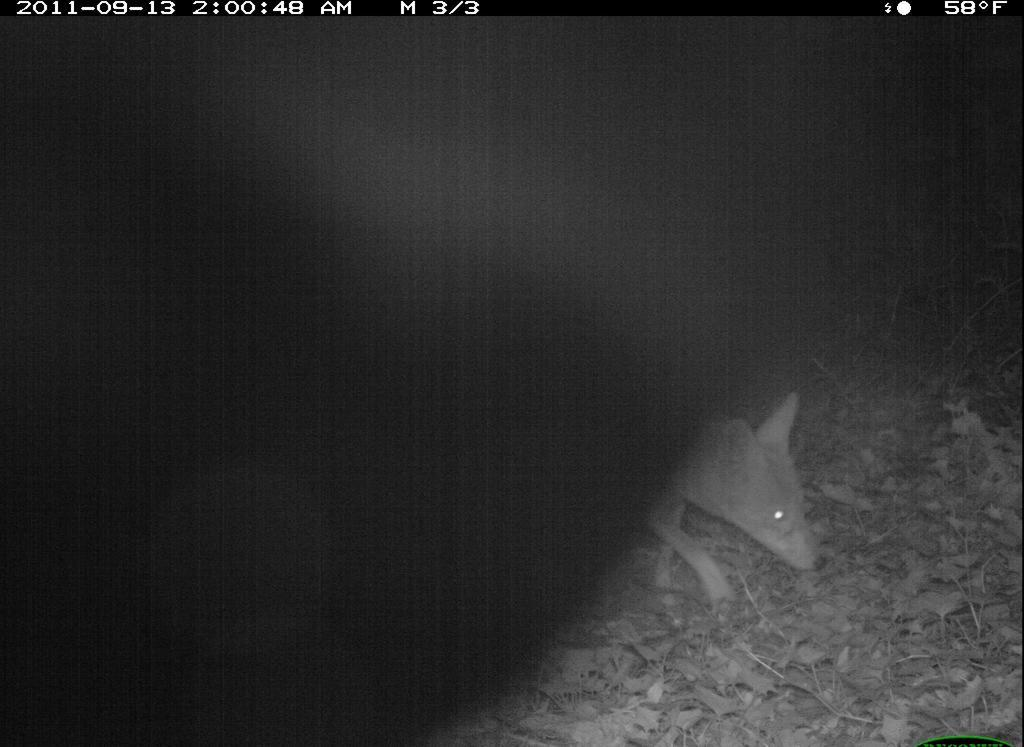coyote: (596, 382, 843, 620)
